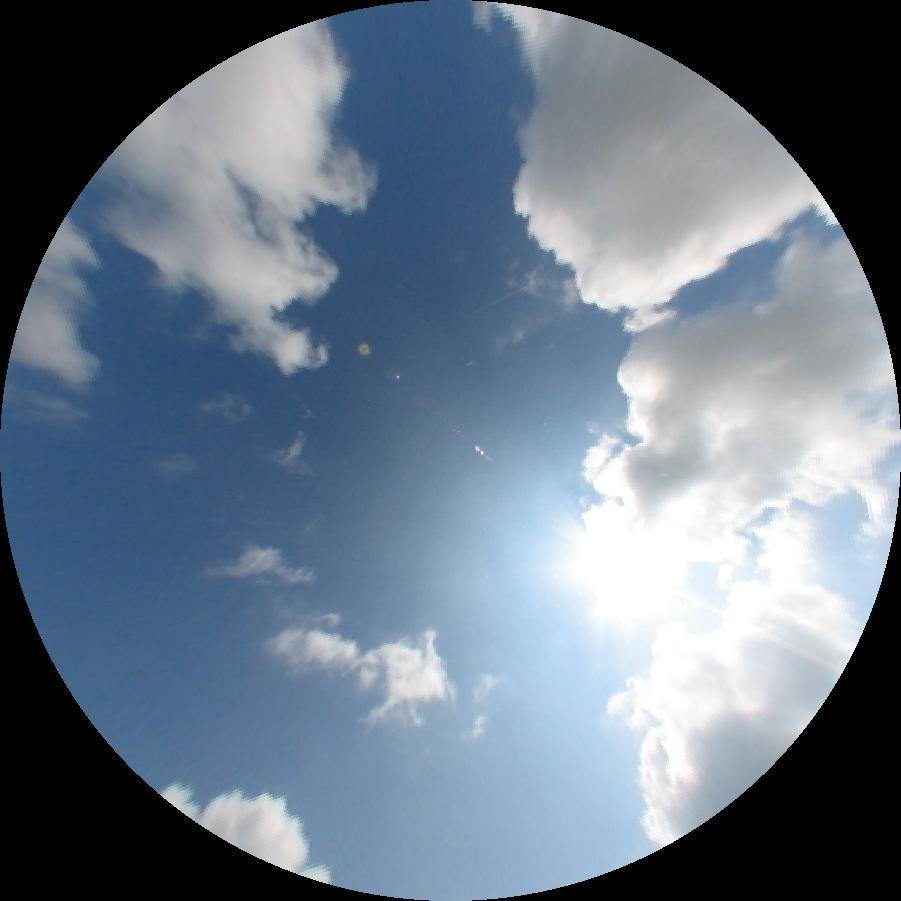contrail young: (471, 287, 523, 316), (286, 386, 316, 419)
parasite: (674, 586, 843, 675)
sun: (577, 507, 690, 619)
